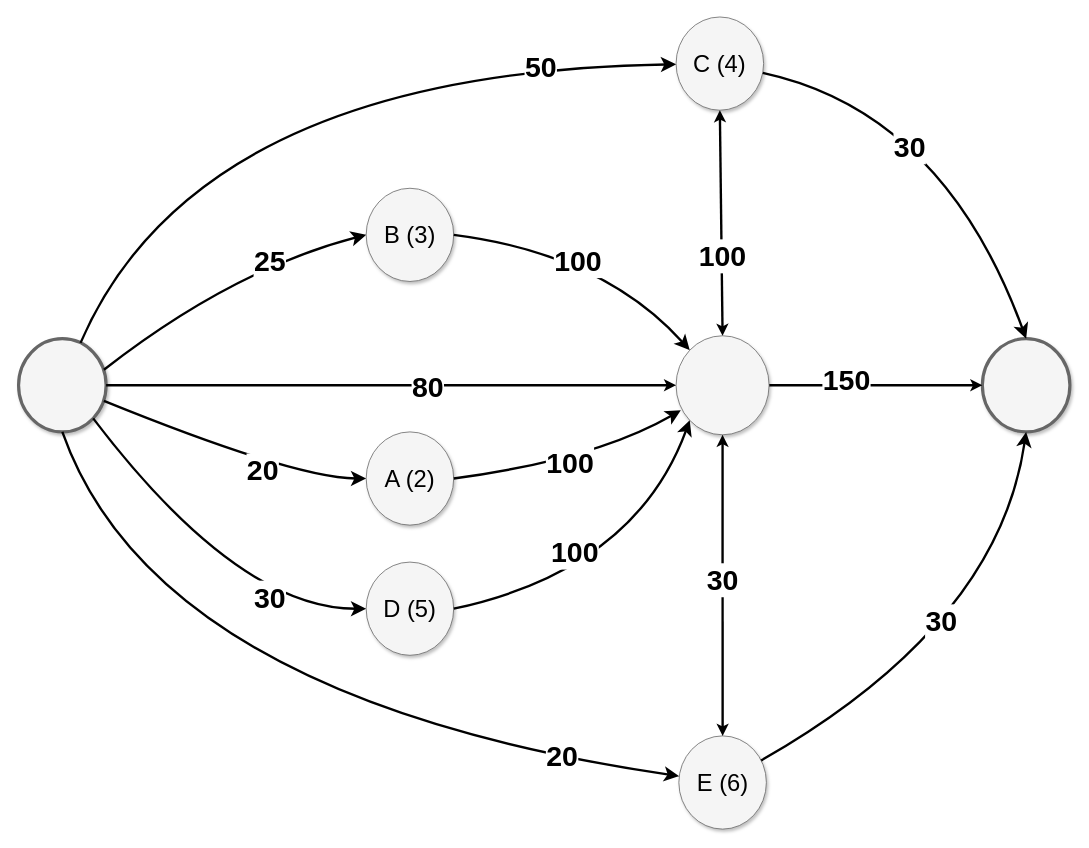
The diagram is 1089 pixels wide and 848 high, and some of its shapes have lost their labels. Here are the shapes that lost their labels. From the top down, the centre of each, then its label:
At point (62, 386): "s (1)".
At point (723, 386): "F (7)".
At point (1026, 386): "t (8)".
